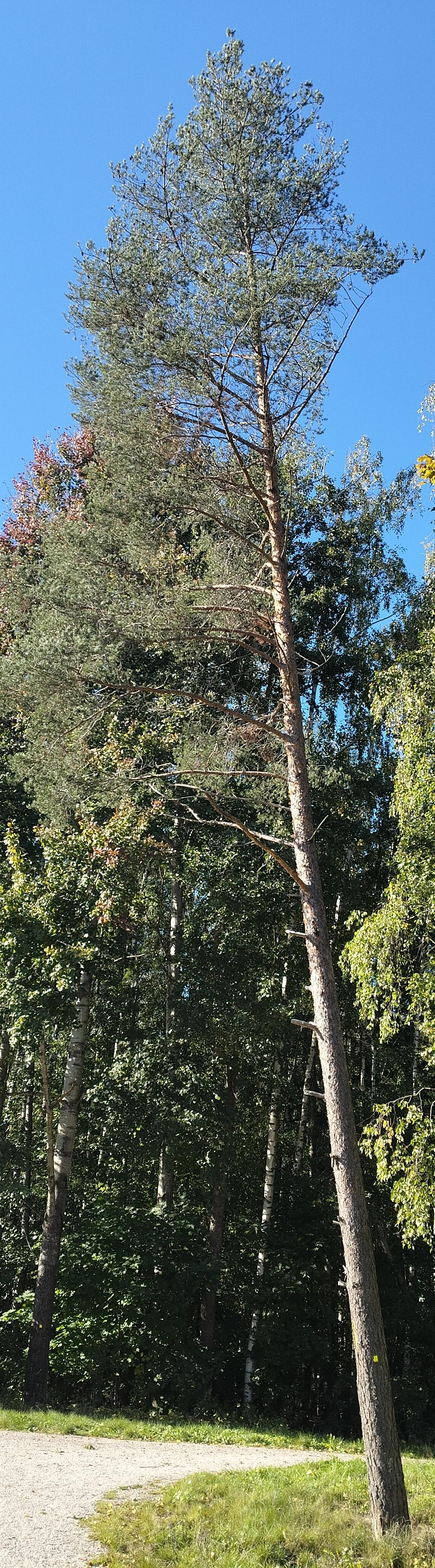Pine: (95, 24, 399, 1493)
